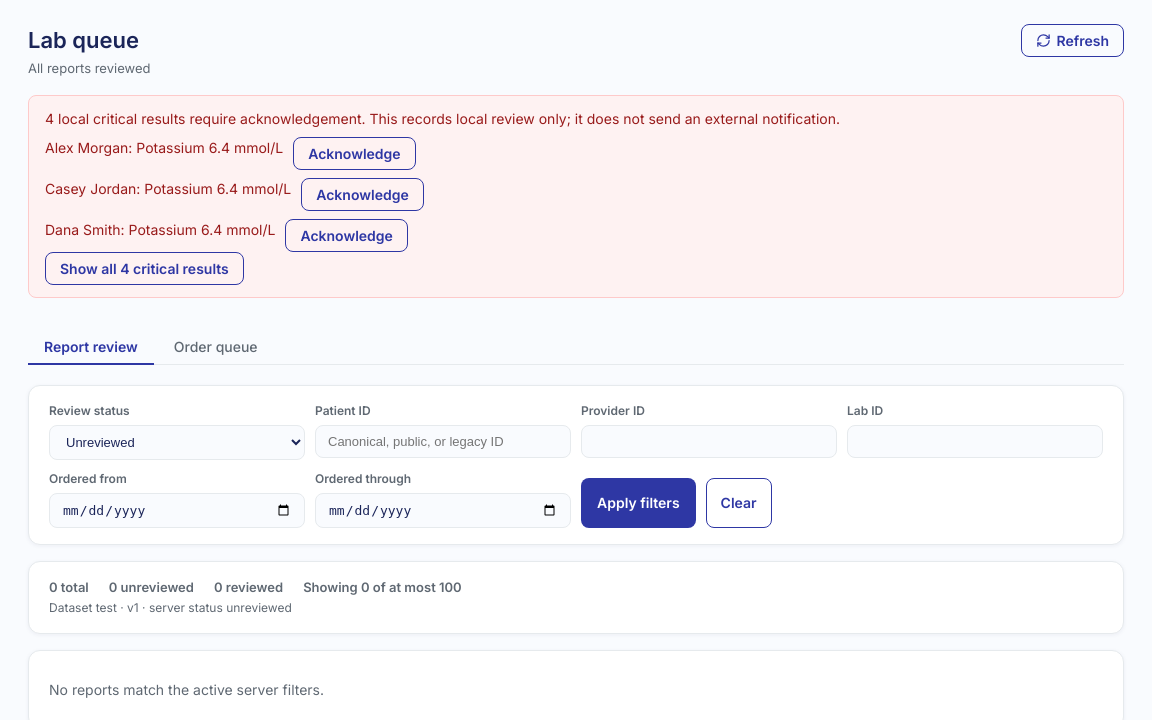
Test: LabQueue › keeps every open critical result reachable from the acknowledgement alert
The width and height of the screenshot is (1152, 720).
Check: the text "Alex Morgan: Potassium 6.4 mmol/L" is shown, box [45, 138, 283, 156]
Check: the text "Jamie Lee: Potassium 6.4 mmol/L" is not shown
Click the button "Show all 4 critical results".
click(144, 268)  # box [45, 252, 244, 284]
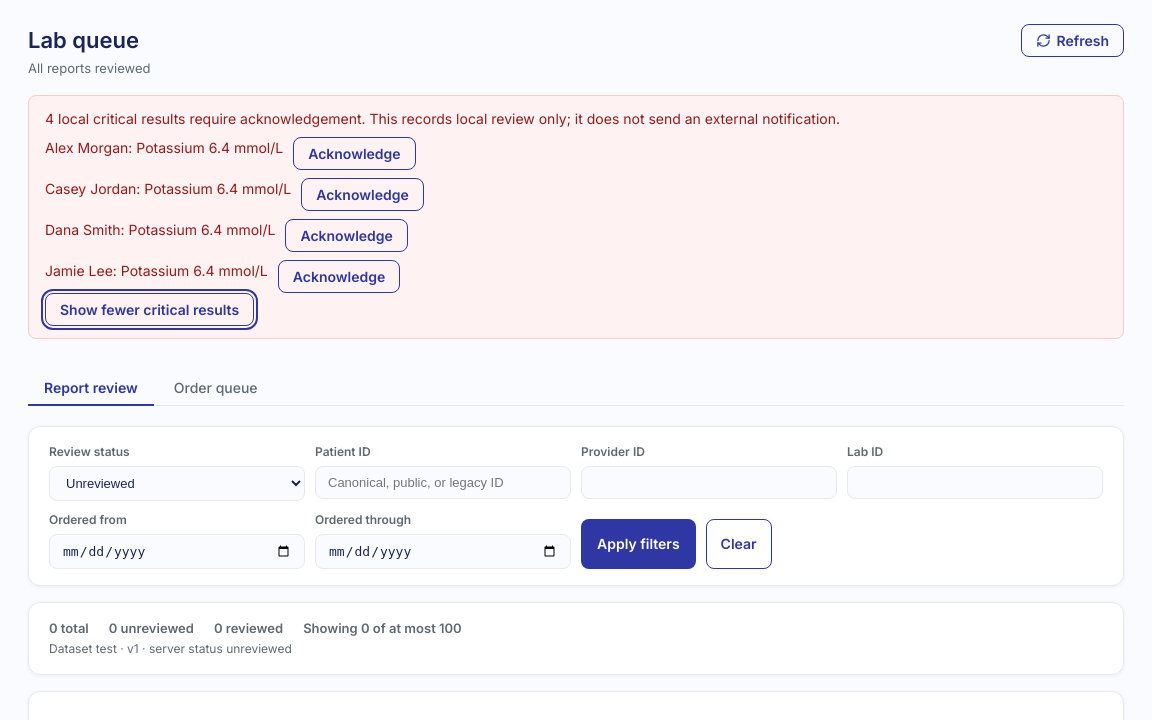
Check: the text "Jamie Lee: Potassium 6.4 mmol/L" is shown, box [45, 262, 268, 278]
Check: the button "Show fewer critical results" is expanded, box [45, 292, 254, 326]
